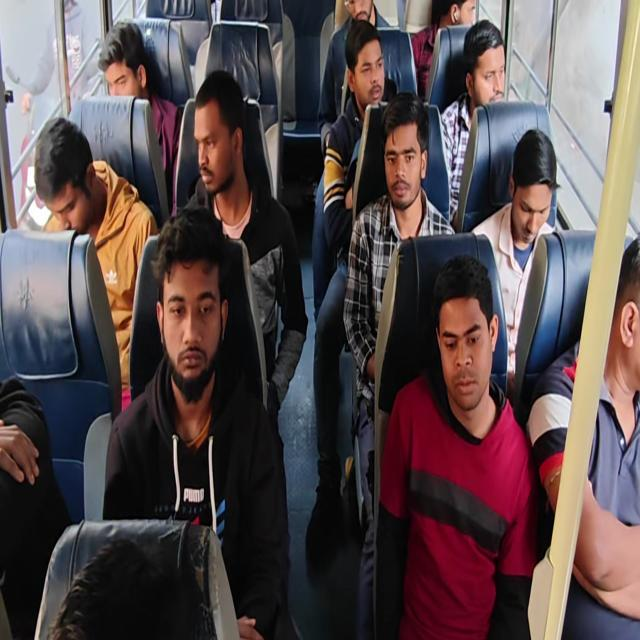person: (3, 1, 638, 638), (102, 205, 292, 638), (374, 253, 538, 638), (342, 90, 456, 636), (179, 69, 308, 448), (306, 19, 394, 565), (526, 234, 639, 622), (34, 116, 158, 401), (470, 127, 561, 401), (0, 375, 72, 638), (47, 535, 217, 639), (18, 0, 100, 212), (97, 19, 182, 203), (440, 19, 506, 228), (318, 0, 392, 157), (411, 0, 476, 100)
